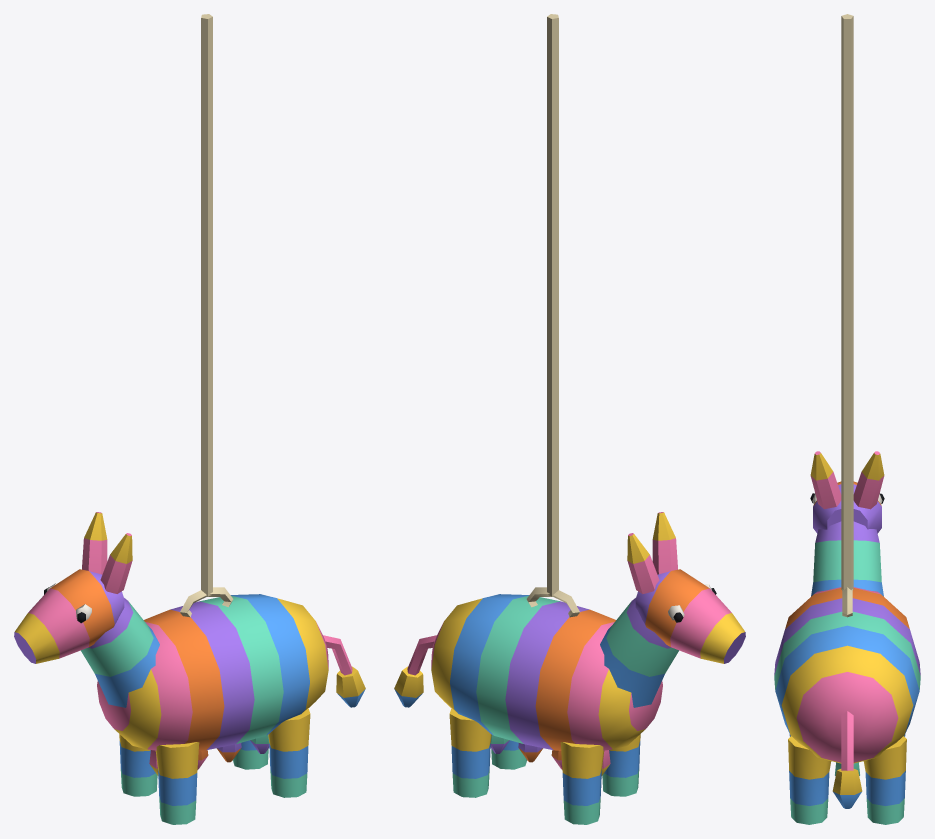
The model's file is Pinata.fbx.
3 views of the same model, side by side, from view 1: azimuth 30°, elevation 25°; view 2: azimuth 150°, elevation 25°; view 3: azimuth 270°, elevation 25° (orthographic).
Visible parts, largest first — view 1: Pinata; view 2: Pinata; view 3: Pinata.
Part boxes in pixels (bbox=[...]): Pinata: bbox=[14, 14, 365, 824]; Pinata: bbox=[394, 14, 745, 824]; Pinata: bbox=[774, 14, 920, 824].
Bounding box in the file's own units: 1.85 × 4 × 0.69.
